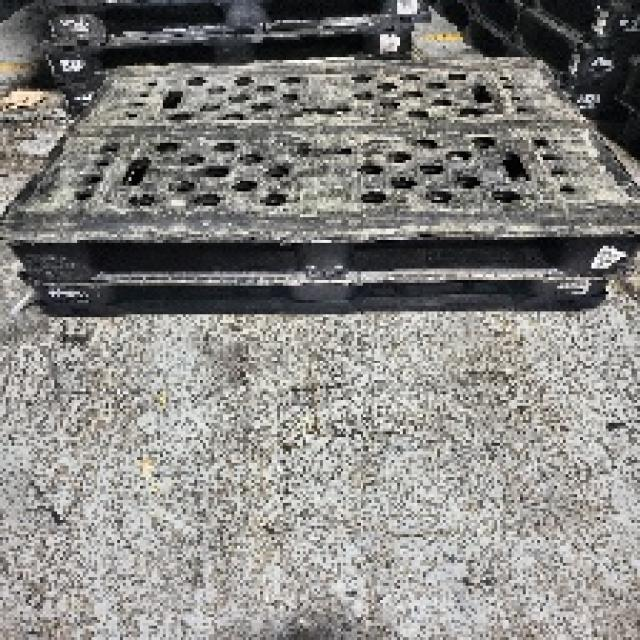igps: (0, 49, 640, 274), (8, 267, 613, 323)
